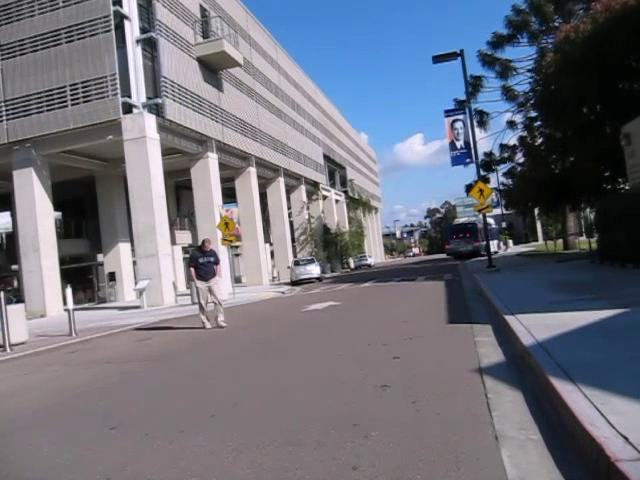pedestrianCrossing: (468, 179, 494, 206)
